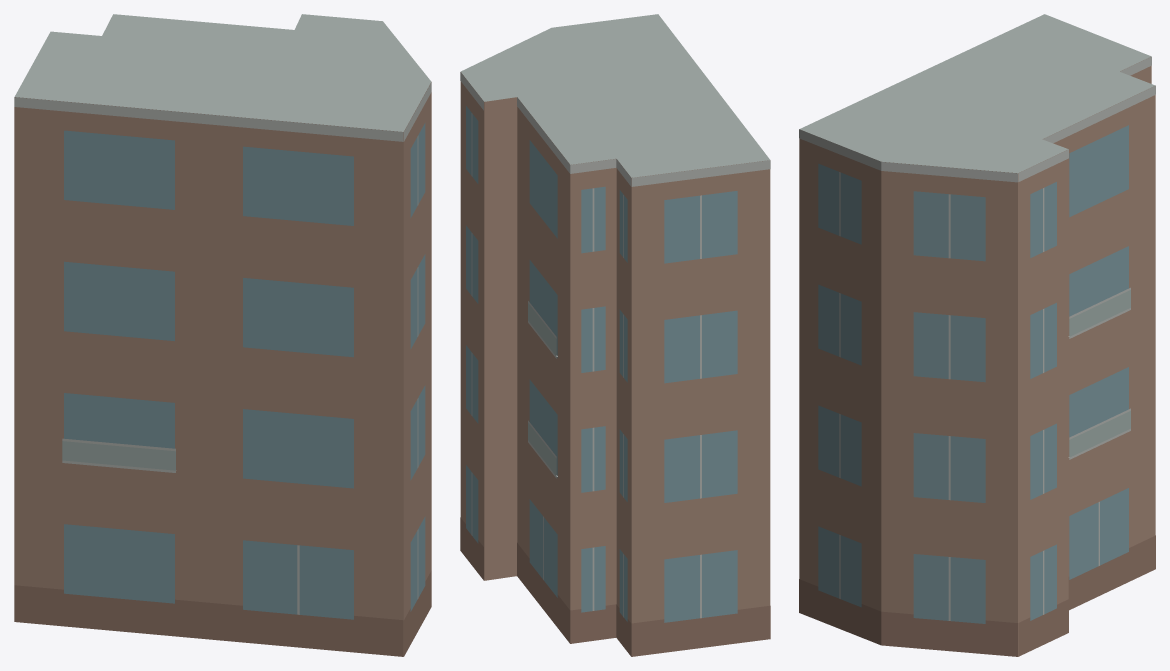
File: survey-upis-32518299.glb
3 renders of one model, left to right at view 1: azimuth 30°, elevation 25°; view 2: azimuth 150°, elevation 25°; view 3: azimuth 270°, elevation 25°, orthographic. The views are drawn at different scales.
Parts seen in each view (by area): view 1: survey-upis-32518299.tmp; view 2: survey-upis-32518299.tmp; view 3: survey-upis-32518299.tmp.
Boxes of the visible parts, bbox=[...] form: survey-upis-32518299.tmp: bbox=[14, 14, 431, 656]; survey-upis-32518299.tmp: bbox=[460, 14, 770, 656]; survey-upis-32518299.tmp: bbox=[799, 14, 1155, 656].
Bounding box in the file's own units: 9.05 × 12.8 × 8.56.
